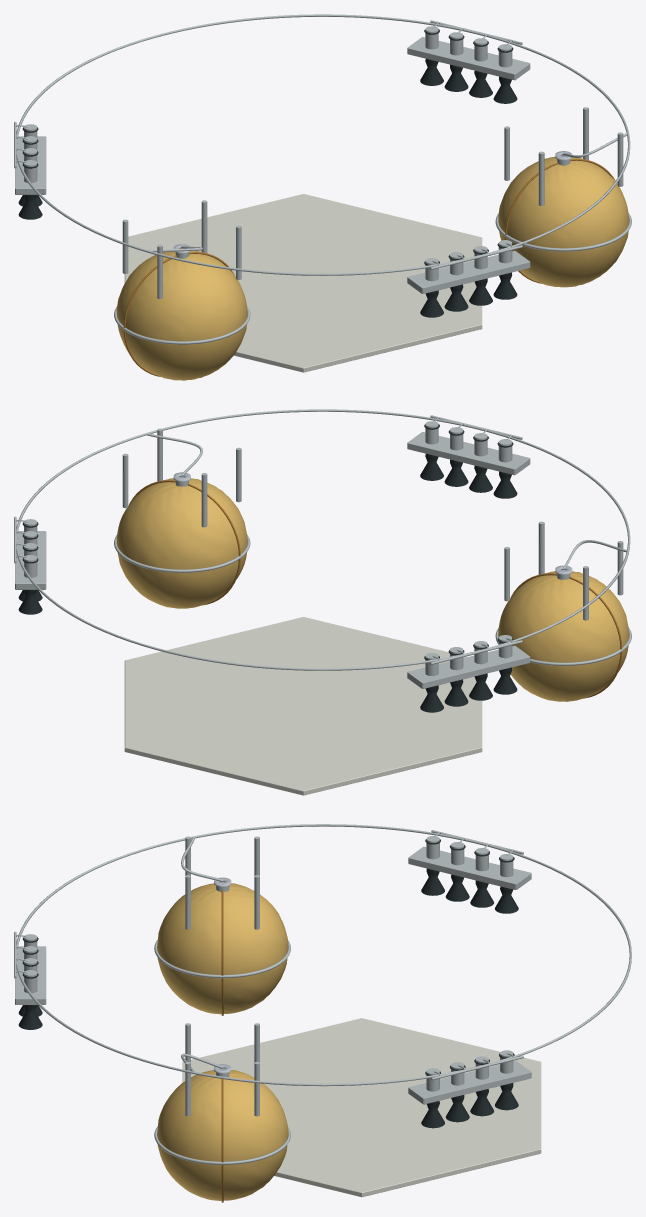
The model's file is phoenix-propulsion.glb.
3 views of the same model, one above another, from view 1: azimuth 30°, elevation 25°; view 2: azimuth 150°, elevation 25°; view 3: azimuth 270°, elevation 25° (orthographic).
Visible parts, largest first — view 1: PHOENIX_LANDING_RADAR_Phoenix_silver_multilayer_thermal_blan, HYDRAZINE_TANK_LEFT_Phoenix_gold_multilayer_thermal_blanket, HYDRAZINE_TANK_RIGHT_Phoenix_gold_multilayer_thermal_blanket, PHOENIX_UNDERDECK_FEED_MANIFOLD_Phoenix_machined_aluminium, PHX_THRUSTER_BANK_0_Phoenix_machined_aluminium, PHX_THRUSTER_BANK_2_Phoenix_machined_aluminium, HYDRAZINE_TANK_LEFT_Phoenix_machined_aluminium, HYDRAZINE_TANK_RIGHT_Phoenix_machined_aluminium, PHX_THRUSTER_BANK_1_Phoenix_machined_aluminium; view 2: PHOENIX_LANDING_RADAR_Phoenix_silver_multilayer_thermal_blan, HYDRAZINE_TANK_RIGHT_Phoenix_gold_multilayer_thermal_blanket, HYDRAZINE_TANK_LEFT_Phoenix_gold_multilayer_thermal_blanket, PHOENIX_UNDERDECK_FEED_MANIFOLD_Phoenix_machined_aluminium, PHX_THRUSTER_BANK_1_Phoenix_machined_aluminium, PHX_THRUSTER_BANK_0_Phoenix_machined_aluminium, HYDRAZINE_TANK_RIGHT_Phoenix_machined_aluminium, HYDRAZINE_TANK_LEFT_Phoenix_machined_aluminium, PHX_THRUSTER_BANK_2_Phoenix_machined_aluminium; view 3: PHOENIX_LANDING_RADAR_Phoenix_silver_multilayer_thermal_blan, HYDRAZINE_TANK_LEFT_Phoenix_gold_multilayer_thermal_blanket, HYDRAZINE_TANK_RIGHT_Phoenix_gold_multilayer_thermal_blanket, PHOENIX_UNDERDECK_FEED_MANIFOLD_Phoenix_machined_aluminium, PHX_THRUSTER_BANK_2_Phoenix_machined_aluminium, PHX_THRUSTER_BANK_1_Phoenix_machined_aluminium, HYDRAZINE_TANK_LEFT_Phoenix_machined_aluminium, HYDRAZINE_TANK_RIGHT_Phoenix_machined_aluminium, PHX_THRUSTER_BANK_0_Phoenix_machined_aluminium.
Boxes of the visible parts, x1,y1,x2,y2 form: PHOENIX_LANDING_RADAR_Phoenix_silver_multilayer_thermal_blan: (124,194,482,372); HYDRAZINE_TANK_LEFT_Phoenix_gold_multilayer_thermal_blanket: (116,250,247,380); HYDRAZINE_TANK_RIGHT_Phoenix_gold_multilayer_thermal_blanket: (498,156,629,287); PHOENIX_UNDERDECK_FEED_MANIFOLD_Phoenix_machined_aluminium: (16,14,630,275); PHX_THRUSTER_BANK_0_Phoenix_machined_aluminium: (407,245,530,293); PHX_THRUSTER_BANK_2_Phoenix_machined_aluminium: (407,20,530,80); HYDRAZINE_TANK_LEFT_Phoenix_machined_aluminium: (114,200,250,344); HYDRAZINE_TANK_RIGHT_Phoenix_machined_aluminium: (495,107,631,251); PHX_THRUSTER_BANK_1_Phoenix_machined_aluminium: (14,121,46,194); PHOENIX_LANDING_RADAR_Phoenix_silver_multilayer_thermal_blan: (124,617,482,795); HYDRAZINE_TANK_RIGHT_Phoenix_gold_multilayer_thermal_blanket: (116,478,247,608); HYDRAZINE_TANK_LEFT_Phoenix_gold_multilayer_thermal_blanket: (498,571,629,701); PHOENIX_UNDERDECK_FEED_MANIFOLD_Phoenix_machined_aluminium: (16,409,630,670); PHX_THRUSTER_BANK_1_Phoenix_machined_aluminium: (407,640,530,688); PHX_THRUSTER_BANK_0_Phoenix_machined_aluminium: (407,415,530,475); HYDRAZINE_TANK_RIGHT_Phoenix_machined_aluminium: (114,428,250,572); HYDRAZINE_TANK_LEFT_Phoenix_machined_aluminium: (495,521,631,665); PHX_THRUSTER_BANK_2_Phoenix_machined_aluminium: (14,516,46,589); PHOENIX_LANDING_RADAR_Phoenix_silver_multilayer_thermal_blan: (182,1018,541,1197); HYDRAZINE_TANK_LEFT_Phoenix_gold_multilayer_thermal_blanket: (157,883,288,1014); HYDRAZINE_TANK_RIGHT_Phoenix_gold_multilayer_thermal_blanket: (157,1070,288,1200); PHOENIX_UNDERDECK_FEED_MANIFOLD_Phoenix_machined_aluminium: (16,824,631,1086); PHX_THRUSTER_BANK_2_Phoenix_machined_aluminium: (408,1055,531,1104); PHX_THRUSTER_BANK_1_Phoenix_machined_aluminium: (408,830,531,889); HYDRAZINE_TANK_LEFT_Phoenix_machined_aluminium: (154,836,290,978); HYDRAZINE_TANK_RIGHT_Phoenix_machined_aluminium: (154,1023,290,1164); PHX_THRUSTER_BANK_0_Phoenix_machined_aluminium: (14,931,46,1004).
Size of the model in its own units: 1.28 by 0.3761 by 1.29.
